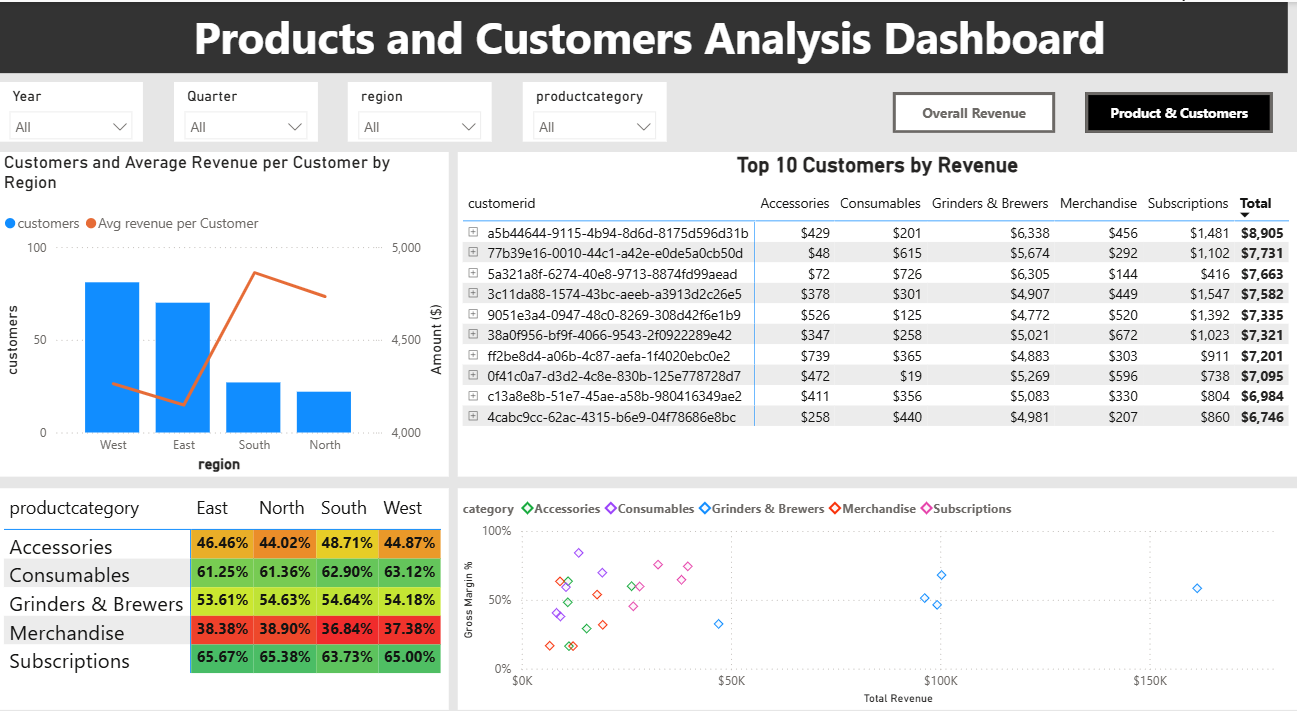

This screenshot's page, from the dashboard's own definition file:
{"tool":"powerbi","page":{"name":"Product & Customers","canvas":[1280,720],"ordinal":1},"visuals":[{"type":"textbox","box":[9.8,0,1260.7,69.7],"z":0},{"type":"slicer","fields":{"Values":["Calendar.Year"]},"box":[9.8,78.3,140.6,58.7],"z":1000},{"type":"slicer","fields":{"Values":["Calendar.Month"]},"box":[182.8,78.3,140.6,58.7],"z":2000},{"type":"clusteredBarChart","title":"Top 10 Products by Revenue","fields":{"Category":["vw_full_orders.productname"],"Y":["vw_full_orders.Total Revenue"]},"box":[9.8,146.7,512.4,302],"z":3000},{"type":"tableEx","title":"Top 10 Customers by Revenue","fields":{"Values":["vw_full_orders.customerid","vw_full_orders.Total Revenue"]},"box":[531.9,146.7,375.4,302],"z":4000},{"type":"lineClusteredColumnComboChart","title":"Customers and Average Products per Customer by Region","fields":{"Category":["vw_full_orders.region"],"Y":["Count(vw_full_orders.customerid)"],"Y2":["vw_full_orders.Avg products per Customer"]},"box":[531.9,458.6,375.4,261.7],"z":5000},{"type":"textbox","box":[920.8,146.7,349.7,573.5],"z":6000},{"type":"slicer","fields":{"Values":["vw_full_orders.region"]},"box":[355.8,78.3,140.6,58.7],"z":7000},{"type":"actionButton","title":"Overall Revenue","box":[884.1,88,159,40.4],"z":8000},{"type":"actionButton","title":"Product & Customers","box":[1072.4,88,183.4,40.4],"z":9000},{"type":"clusteredBarChart","title":"Top 10 number of products by productname","fields":{"Category":["vw_full_orders.productname"],"Y":["Sum(vw_full_orders.quantity)"]},"box":[9.8,459.8,512.4,260.5],"z":9001}]}

Visuals, with their boxes in screenshot pixels (x1, y1, x2, y2), scaled from the page's 1280x720 canvas onto the 1297x711 screenshot:
textbox: [10,0,1287,69]
slicer - Calendar.Year: [10,77,152,135]
slicer - Calendar.Month: [185,77,328,135]
"Top 10 Products by Revenue" clusteredBarChart: [10,145,529,443]
"Top 10 Customers by Revenue" tableEx: [539,145,919,443]
"Customers and Average Products per Customer by Region" lineClusteredColumnComboChart: [539,453,919,710]
textbox: [933,145,1287,710]
slicer - vw_full_orders.region: [361,77,503,135]
"Overall Revenue" actionButton: [896,87,1057,127]
"Product & Customers" actionButton: [1087,87,1272,127]
"Top 10 number of products by productname" clusteredBarChart: [10,454,529,710]
